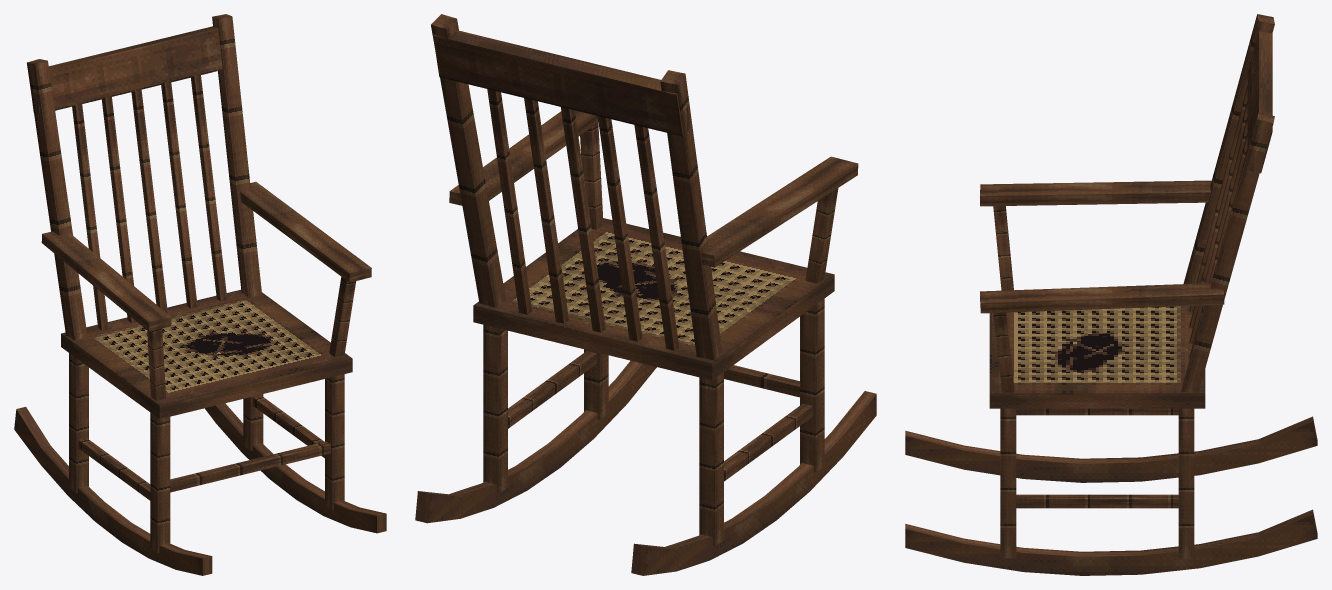
The model's file is rocking_chair.glb.
The picture shows the model from 3 angles, left to right: view 1: azimuth 30°, elevation 25°; view 2: azimuth 150°, elevation 25°; view 3: azimuth 270°, elevation 25°; orthographic projection. The views are drawn at different scales.
Parts seen in each view (by area): view 1: rocking_chair; view 2: rocking_chair; view 3: rocking_chair.
Part boxes in pixels (<box>): rocking_chair: <box>14,14,386,575</box>; rocking_chair: <box>415,14,876,575</box>; rocking_chair: <box>905,14,1317,575</box>.
Size of the model in its own units: 0.6005 by 1.08 by 0.88.
1 material, 1 textured.
